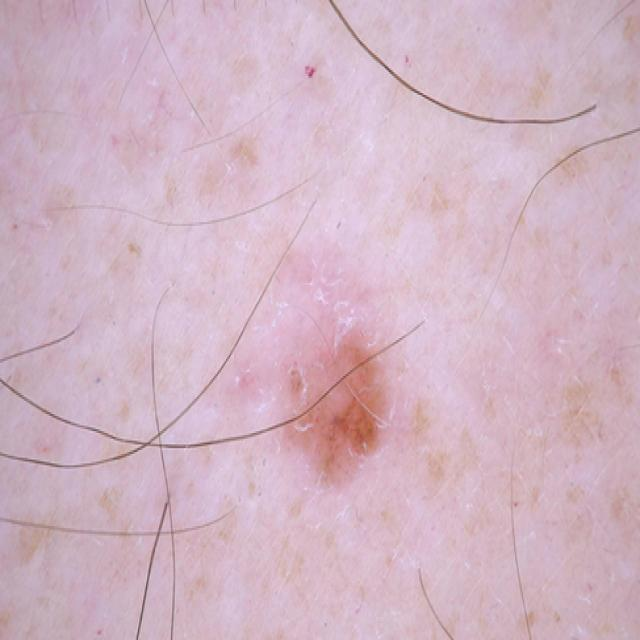Carcinoma: (223, 253, 496, 566)
